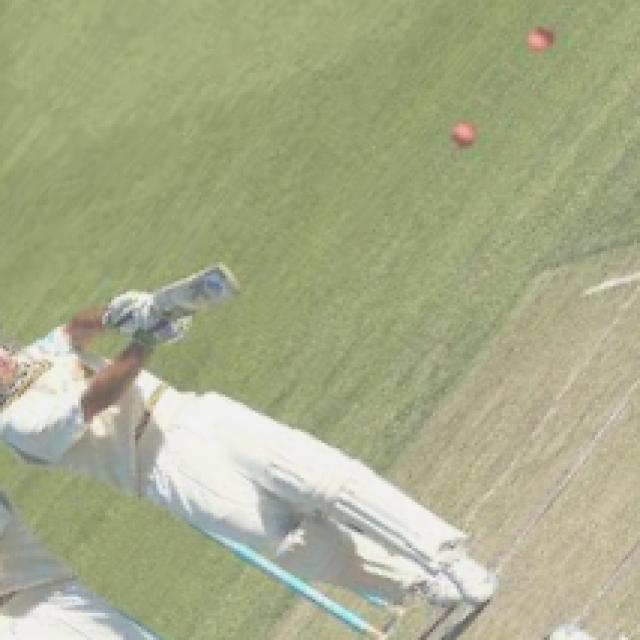toe: (209, 255, 244, 302)
